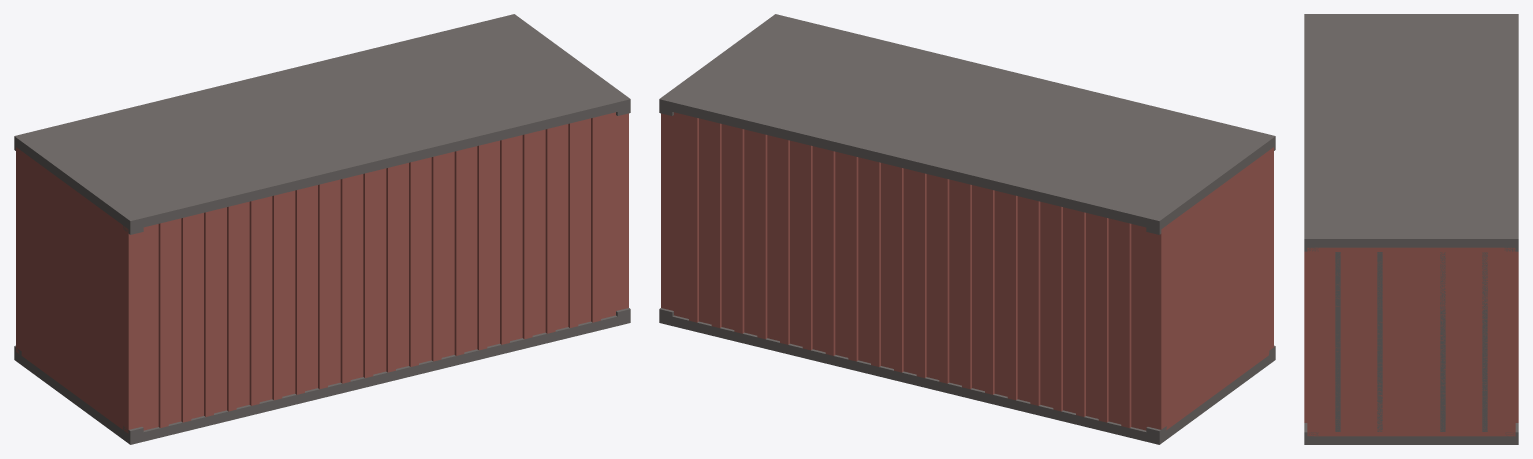
The model's file is SM_Container_Red.fbx.
3 views of the same model, side by side, from view 1: azimuth 30°, elevation 25°; view 2: azimuth 150°, elevation 25°; view 3: azimuth 270°, elevation 25° (orthographic). The views are drawn at different scales.
Visible parts, largest first — view 1: SM_Container_Red; view 2: SM_Container_Red; view 3: SM_Container_Red.
Boxes of the visible parts, <box> form: SM_Container_Red: <box>14,14,630,444</box>; SM_Container_Red: <box>659,14,1275,444</box>; SM_Container_Red: <box>1304,14,1518,444</box>.
Bounding box in the file's own units: 606 × 259 × 244.
